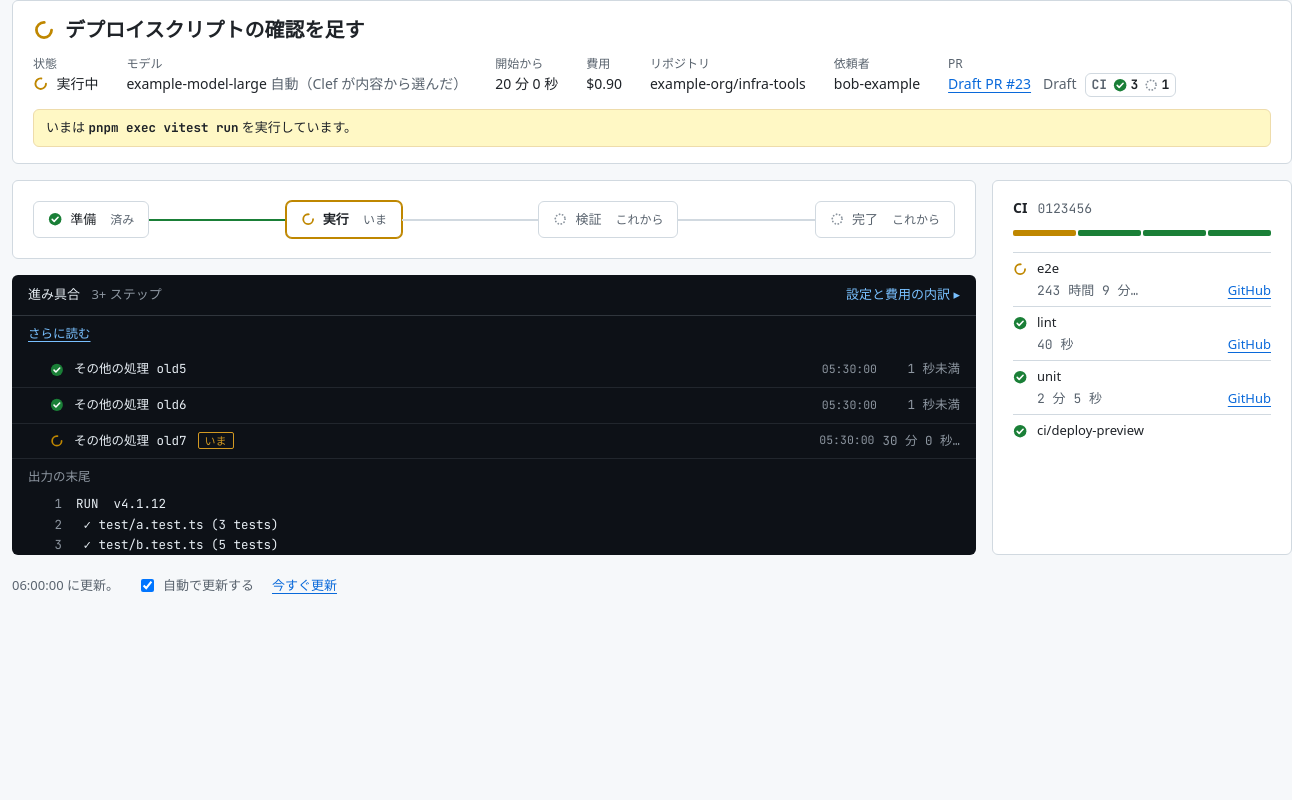
さらに読む（before で遡る） › 遡りの取得に失敗したら、案内を出してボタンは残る
Click the button "さらに読む" at (59, 334), box [28, 324, 90, 344]
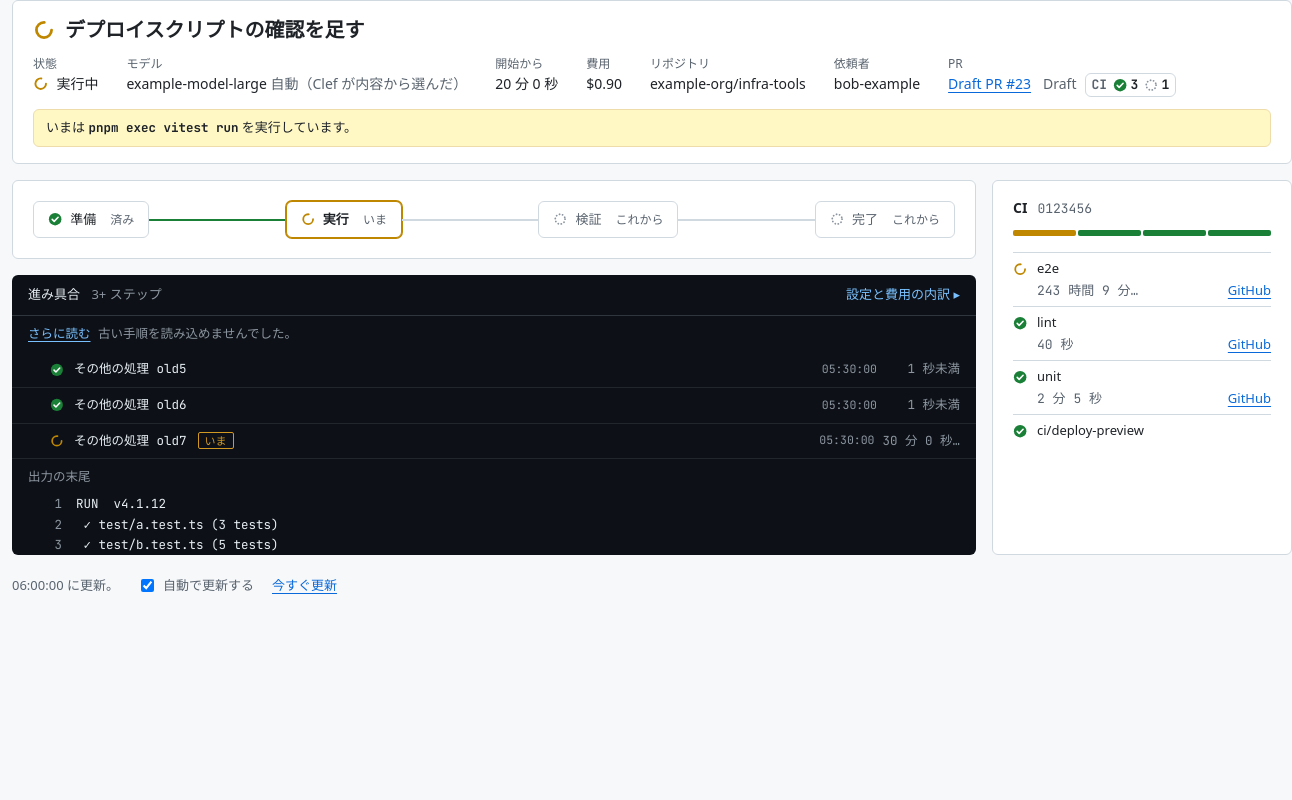
Expected: the text "古い手順を読み込めませんでした" is shown, [98, 325, 297, 342]
